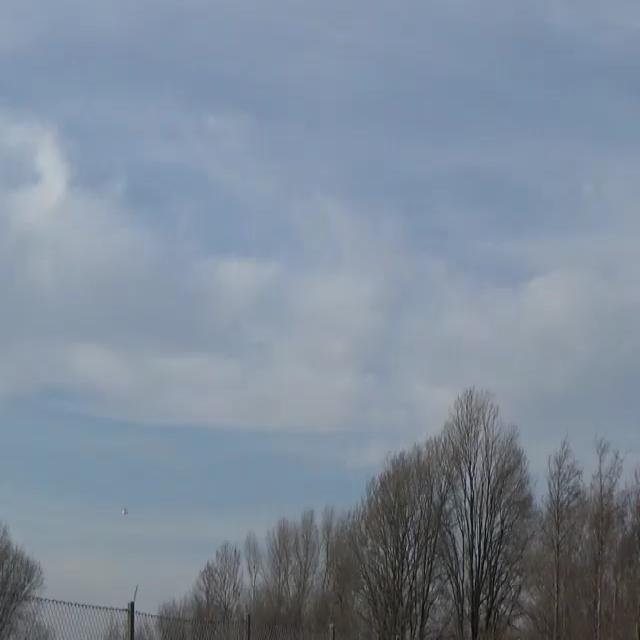Helicopter: (104, 496, 139, 528)
